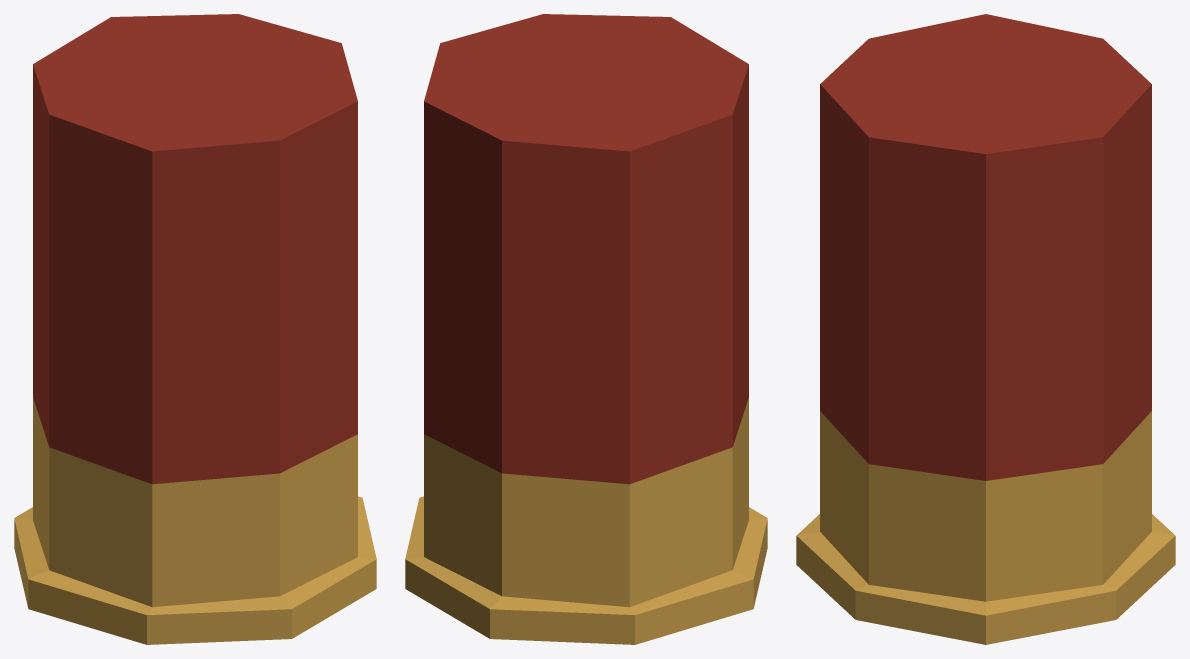
The model's file is ShotgunShell.fbx.
The picture shows the model from 3 angles, left to right: view 1: azimuth 30°, elevation 25°; view 2: azimuth 150°, elevation 25°; view 3: azimuth 270°, elevation 25°; orthographic projection.
Parts seen in each view (by area): view 1: Cube; view 2: Cube; view 3: Cube.
Part boxes in pixels (x1,y1,x2,y2): Cube: [14, 14, 376, 644]; Cube: [405, 14, 767, 644]; Cube: [796, 14, 1175, 644].
Bounding box in the file's own units: 32 × 44.78 × 32.
